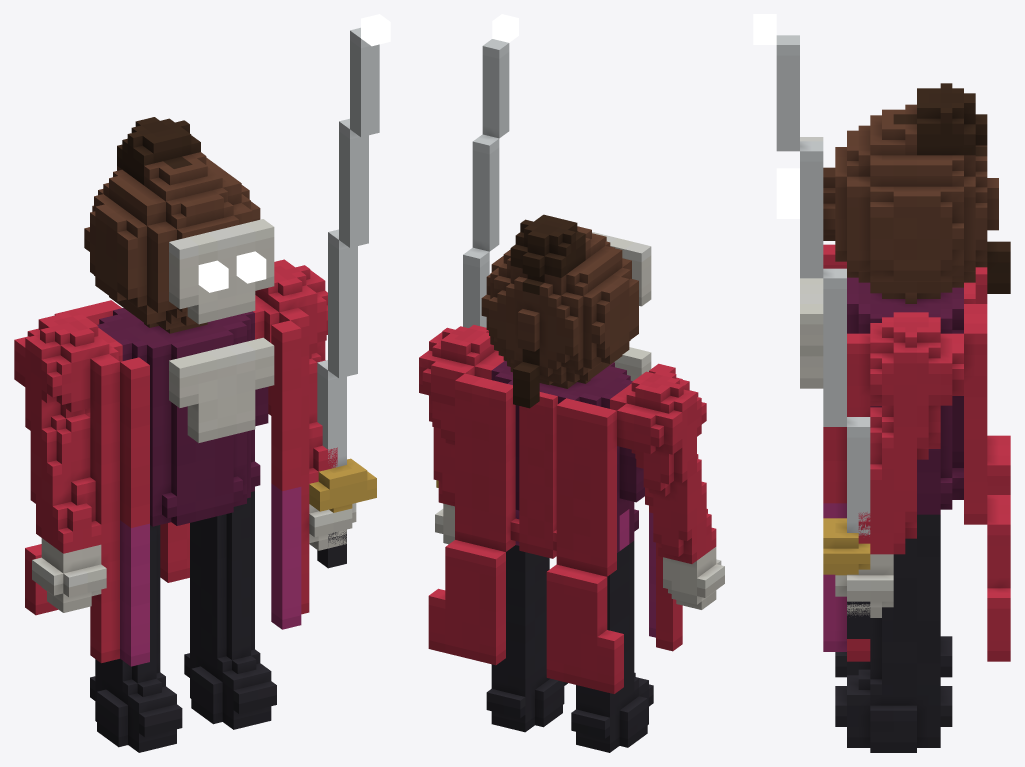
Rendered from u_tidiane__lame.glb.
3 views of the same model, side by side, from view 1: azimuth 30°, elevation 25°; view 2: azimuth 150°, elevation 25°; view 3: azimuth 270°, elevation 25° (orthographic). The views are drawn at different scales.
Parts seen in each view (by area): view 1: tidiane_body, tidiane_weapon, tidiane_glow, tidiane_weaponglow; view 2: tidiane_body, tidiane_weapon, tidiane_weaponglow; view 3: tidiane_body, tidiane_weapon, tidiane_glow, tidiane_weaponglow.
Boxes of the visible parts, box(x1,y1,x2,y2) form: tidiane_body: box(14, 117, 356, 752); tidiane_weapon: box(309, 27, 379, 568); tidiane_glow: box(198, 251, 266, 292); tidiane_weaponglow: box(361, 14, 390, 46); tidiane_body: box(419, 214, 724, 752); tidiane_weapon: box(436, 39, 509, 487); tidiane_weaponglow: box(492, 14, 518, 42); tidiane_body: box(800, 83, 1010, 752); tidiane_weapon: box(776, 35, 870, 638); tidiane_glow: box(776, 168, 799, 218); tidiane_weaponglow: box(753, 14, 776, 44).
Size of the model in its own units: 0.825 by 1.8 by 0.55.
